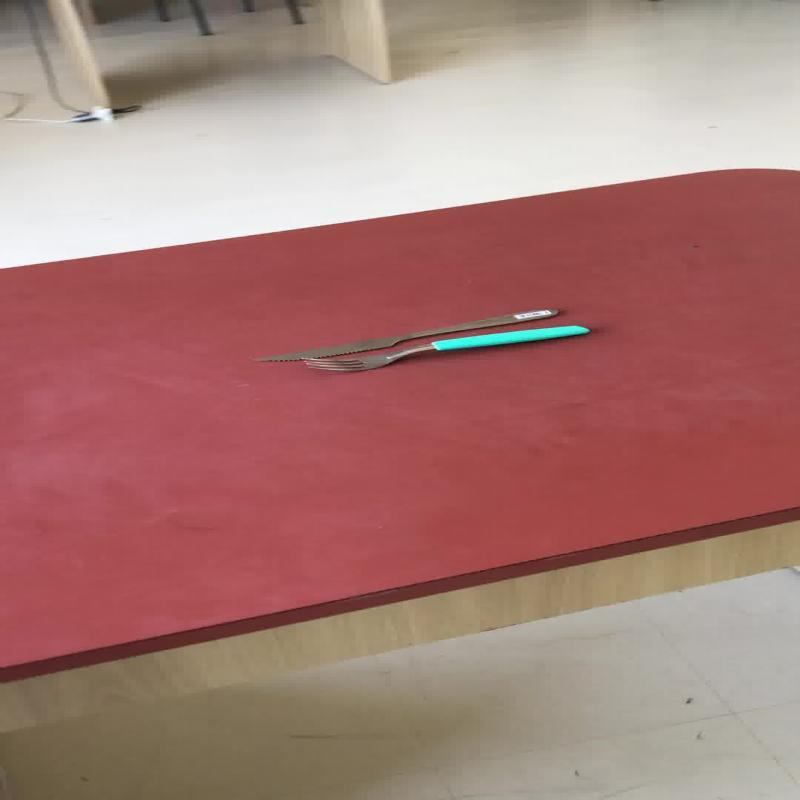fork: (301, 323, 589, 372)
knife: (250, 305, 560, 363)
